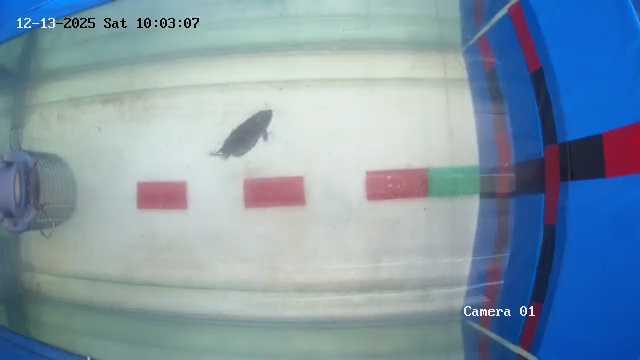fish: (218, 108, 277, 156)
